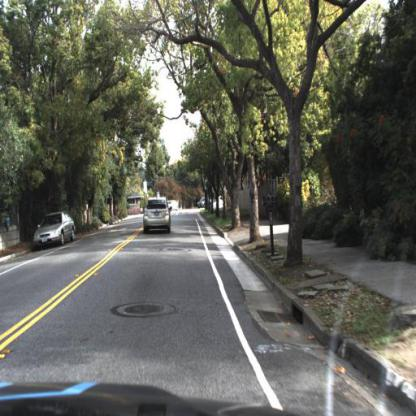car: (31, 207, 79, 246), (143, 197, 172, 237), (196, 195, 212, 212)
